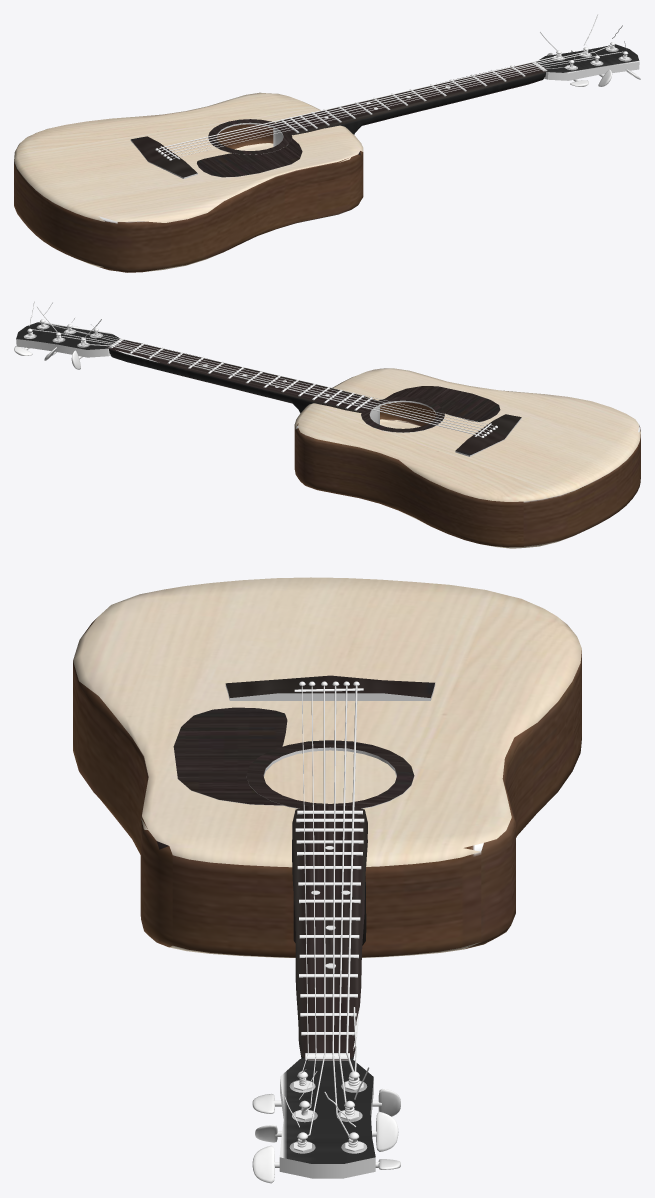
The picture shows the model from 3 angles, top to bottom: view 1: azimuth 30°, elevation 25°; view 2: azimuth 150°, elevation 25°; view 3: azimuth 270°, elevation 25°; orthographic projection. The views are drawn at different scales.
Visible parts, largest first — view 1: Box01, Box05, Box03, Line01, Box02, Box04, Tube01, Cylinder29, Cylinder31, Cylinder30, Cylinder32, Cylinder33 (+1 smaller); view 2: Box01, Box05, Box03, Line01, Box02, Box04, Tube01, Cylinder29, Cylinder31, Cylinder30, Cylinder32, Cylinder33 (+1 smaller); view 3: Box01, Box05, Box03, Line01, Box04, Tube01, Cylinder29, Cylinder31, Cylinder30, Cylinder32.
Boxes of the visible parts, x1=… form: Box01: x1=14, y1=92, x2=363, y2=272; Box05: x1=275, y1=63, x2=547, y2=135; Box03: x1=536, y1=44, x2=639, y2=80; Line01: x1=197, y1=138, x2=302, y2=177; Box02: x1=273, y1=72, x2=545, y2=146; Box04: x1=130, y1=136, x2=197, y2=178; Tube01: x1=208, y1=119, x2=292, y2=154; Cylinder29: x1=159, y1=56, x2=556, y2=149; Cylinder31: x1=164, y1=44, x2=614, y2=153; Cylinder30: x1=161, y1=51, x2=587, y2=150; Cylinder32: x1=167, y1=51, x2=622, y2=155; Cylinder33: x1=170, y1=58, x2=595, y2=157; Box01: x1=294, y1=368, x2=640, y2=548; Box05: x1=107, y1=340, x2=377, y2=412; Box03: x1=16, y1=321, x2=119, y2=357; Line01: x1=385, y1=386, x2=500, y2=422; Box02: x1=109, y1=349, x2=379, y2=424; Box04: x1=455, y1=414, x2=521, y2=456; Tube01: x1=361, y1=397, x2=444, y2=432; Cylinder29: x1=83, y1=344, x2=480, y2=436; Cylinder31: x1=32, y1=329, x2=485, y2=432; Cylinder30: x1=61, y1=336, x2=483, y2=434; Cylinder32: x1=41, y1=322, x2=488, y2=430; Cylinder33: x1=67, y1=327, x2=491, y2=428; Box01: x1=73, y1=577, x2=581, y2=957; Box05: x1=292, y1=806, x2=367, y2=1060; Box03: x1=279, y1=1058, x2=375, y2=1178; Line01: x1=173, y1=707, x2=287, y2=805; Box04: x1=225, y1=675, x2=435, y2=700; Tube01: x1=246, y1=740, x2=414, y2=808; Cylinder29: x1=346, y1=685, x2=357, y2=1071; Cylinder31: x1=332, y1=686, x2=349, y2=1136; Cylinder30: x1=338, y1=686, x2=347, y2=1109; Cylinder32: x1=307, y1=686, x2=325, y2=1135.
Size of the model in its own units: 1008 by 132 by 375.
Materials: 1 (1 with a texture image).
